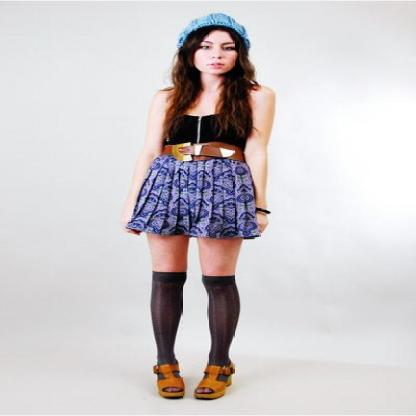shirt: (162, 115, 252, 157)
shoe: (153, 364, 232, 390)
skirt: (126, 142, 261, 241)
